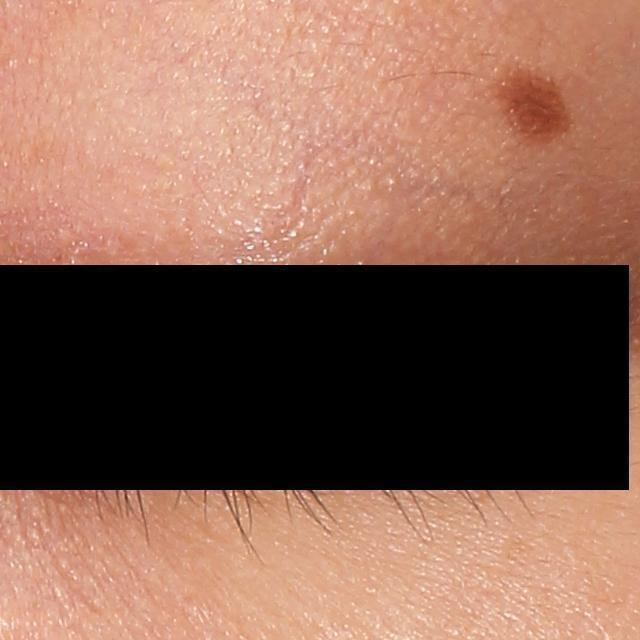nevus: (501, 71, 571, 141)
